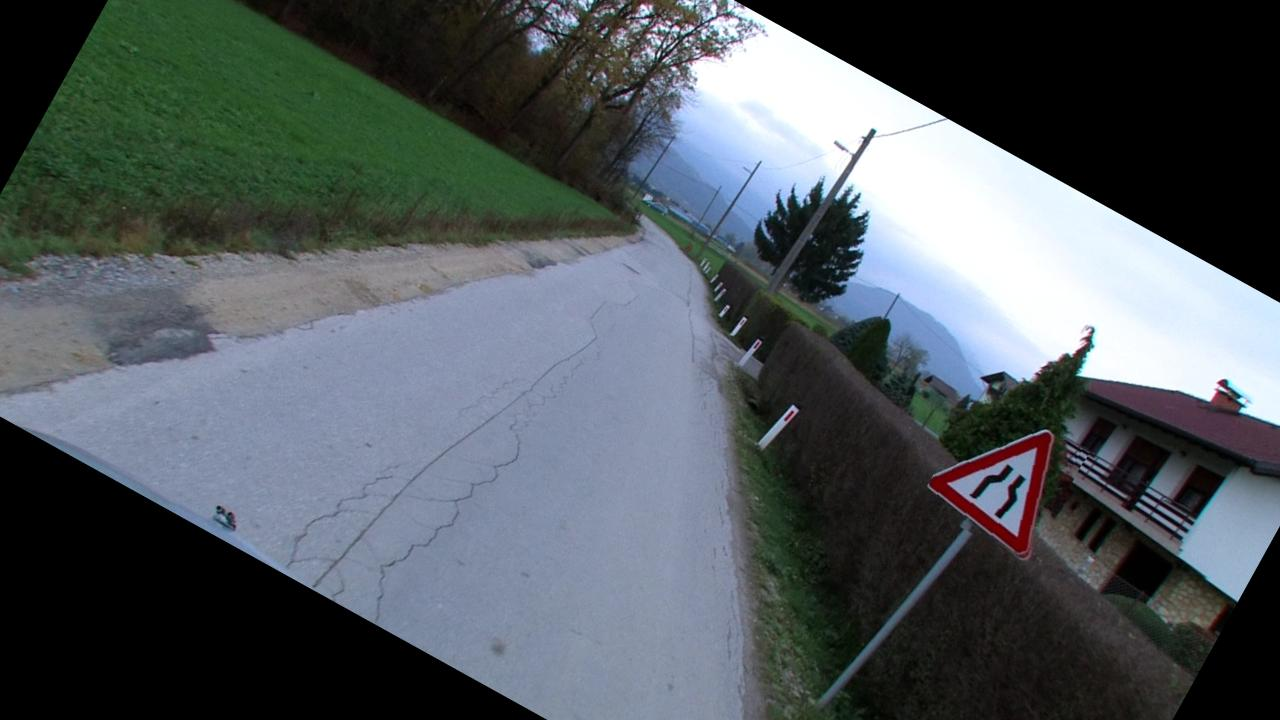Triangle: (916, 391, 1090, 566)
